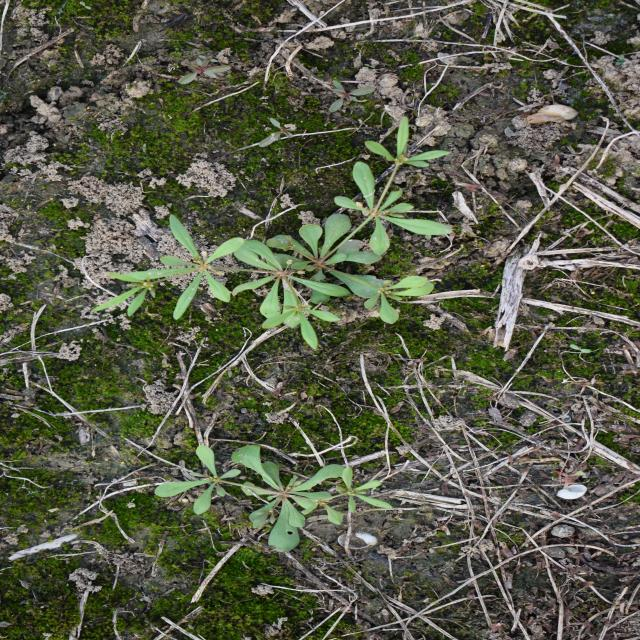Carpetweed: (88, 116, 456, 352), (153, 444, 397, 554)
